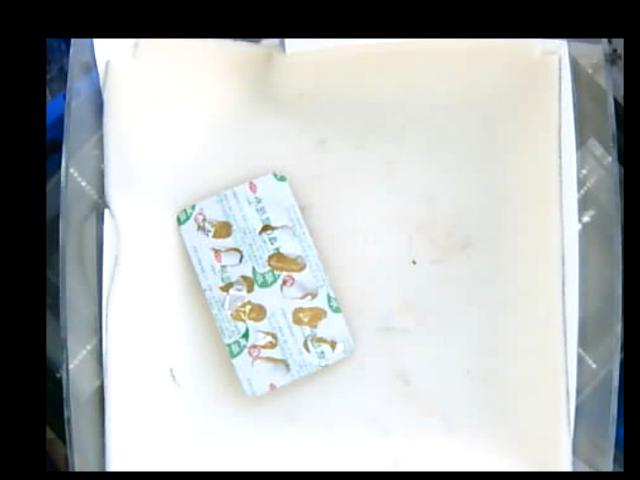Medicine: (176, 174, 350, 398)
